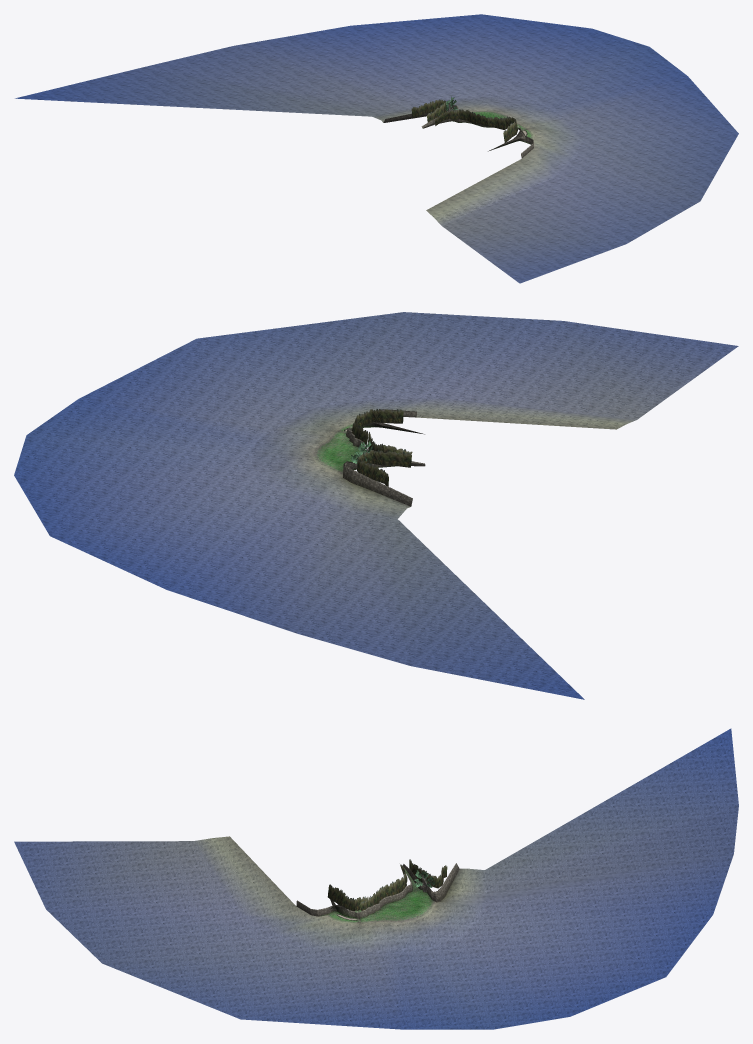
The model's file is lakeside_coast.glb.
3 renders of one model, top to bottom at view 1: azimuth 30°, elevation 25°; view 2: azimuth 150°, elevation 25°; view 3: azimuth 270°, elevation 25°, orthographic. The views are drawn at different scales.
Visible parts, largest first — view 1: Shore; view 2: Shore; view 3: Shore.
Boxes of the visible parts, x1=… form: Shore: x1=15, y1=14, x2=738, y2=283; Shore: x1=14, y1=312, x2=738, y2=699; Shore: x1=14, y1=728, x2=738, y2=1029.
Size of the model in its own units: 1295 by 70.76 by 1328.
Materials: 11 (11 with a texture image).
